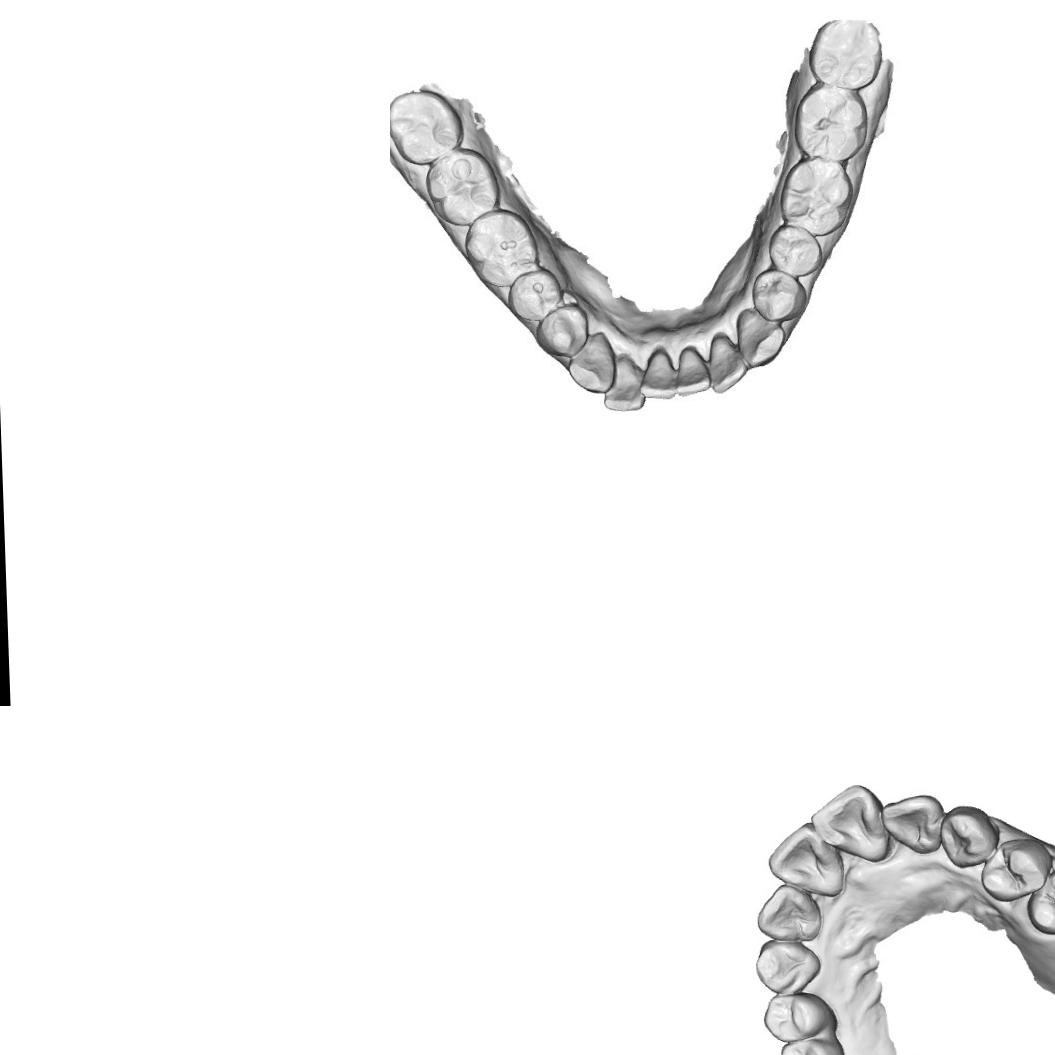canine: (753, 938, 823, 994), (942, 804, 996, 869), (734, 306, 786, 368), (535, 303, 590, 359)
incisor: (808, 782, 889, 863), (766, 820, 842, 900), (753, 882, 823, 941), (566, 330, 616, 396), (882, 797, 943, 851), (601, 353, 646, 412), (707, 332, 748, 394), (638, 349, 676, 401), (674, 346, 711, 397)
molar: (791, 78, 869, 164), (463, 206, 541, 290), (778, 155, 856, 238), (424, 145, 502, 228), (805, 17, 884, 92), (390, 88, 465, 166)
premolar: (978, 834, 1054, 903), (751, 266, 808, 324), (766, 222, 824, 278), (506, 266, 564, 322), (766, 995, 823, 1039), (1027, 867, 1055, 935), (777, 1038, 847, 1055)
